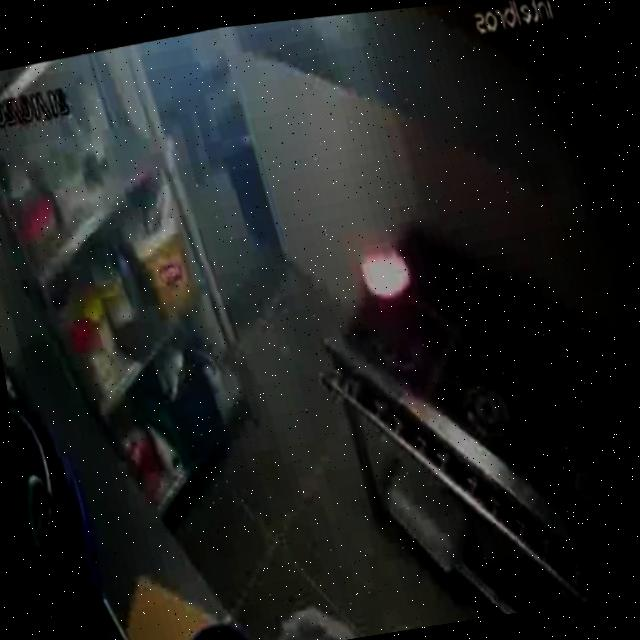fire: (324, 178, 454, 357)
